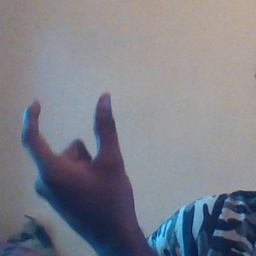U: (18, 88, 134, 228)
